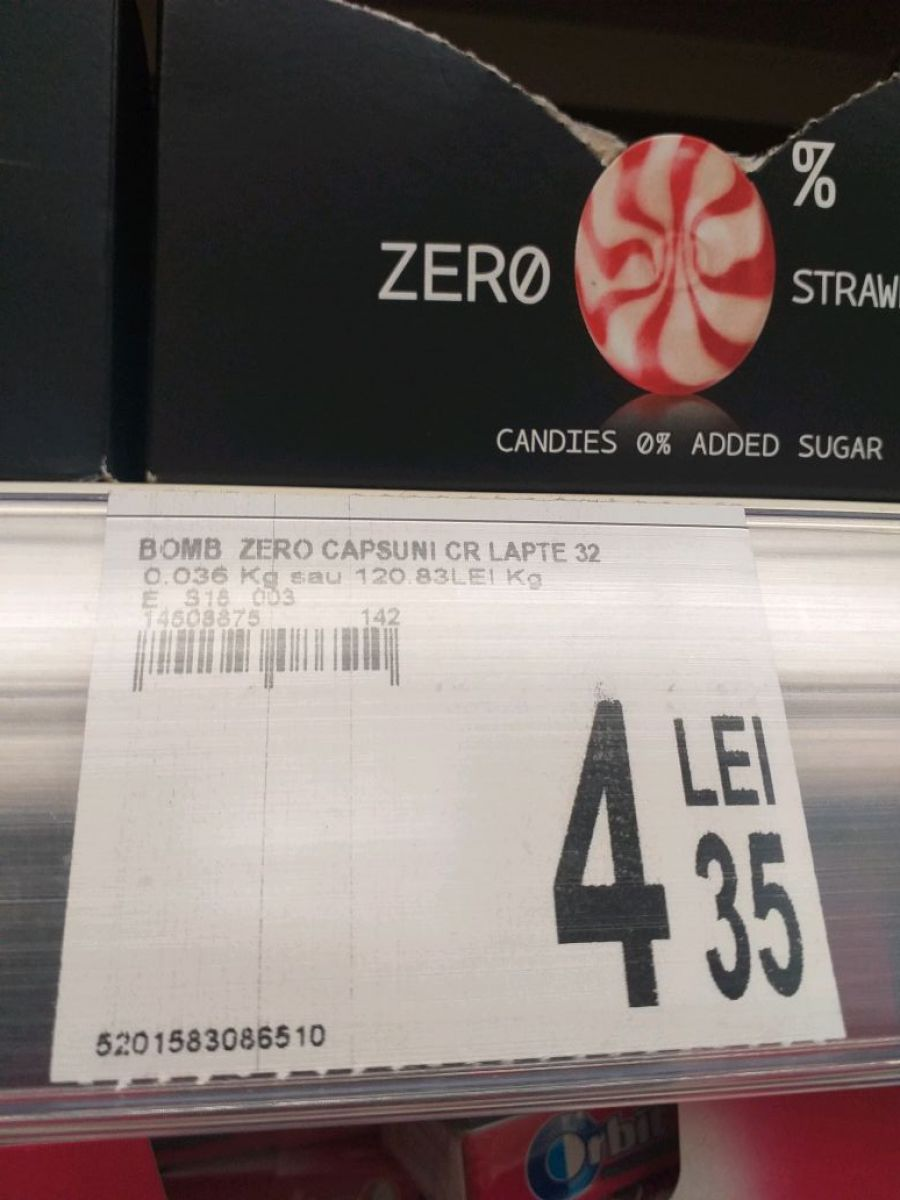bardcode: (90, 1015, 332, 1063)
list: (48, 479, 863, 1086)
name: (135, 532, 608, 571)
price: (542, 696, 816, 1025)
